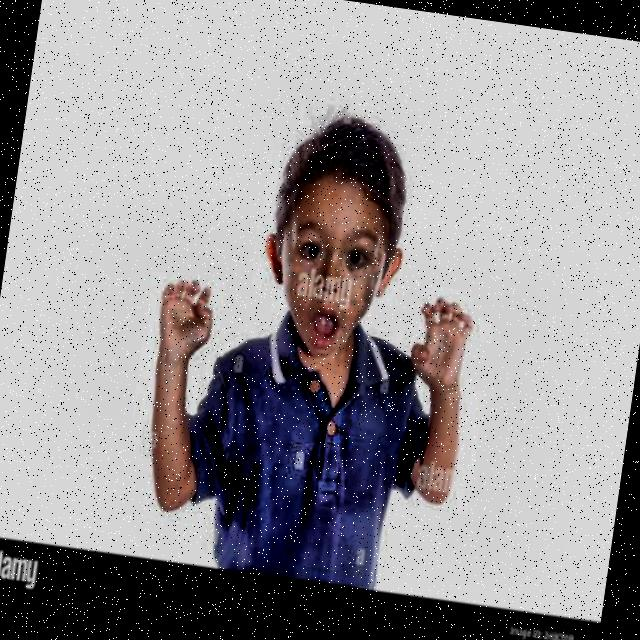surprised: (241, 102, 438, 372)
